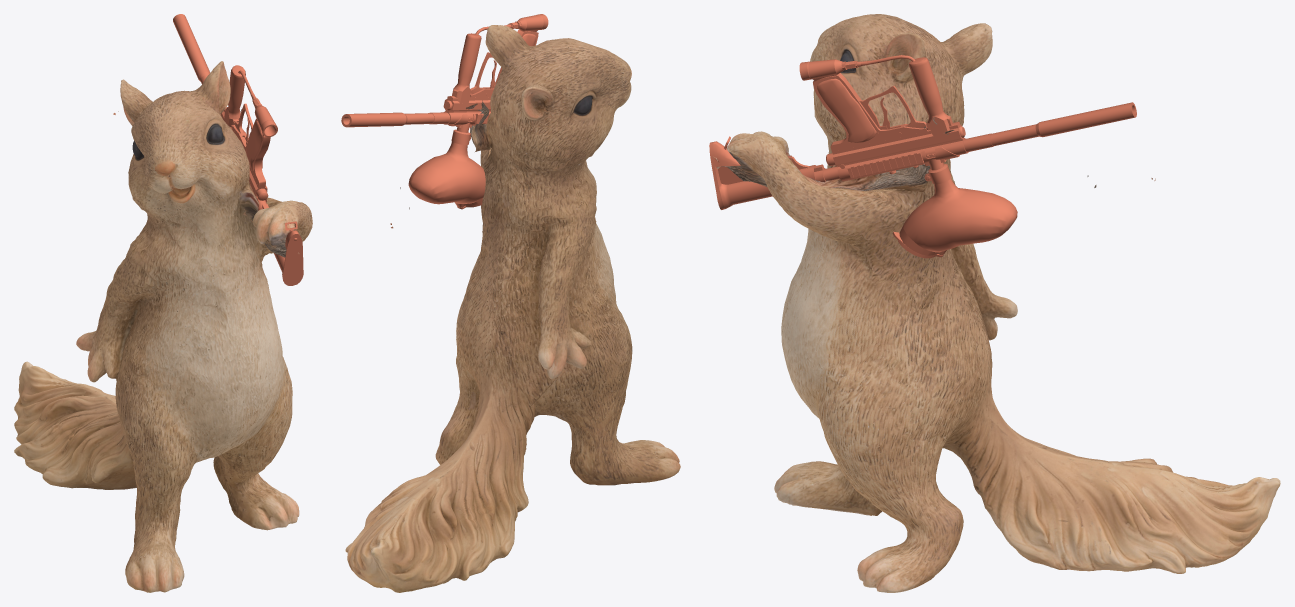
Rendered from sir_squirrell.glb.
3 renders of one model, left to right at view 1: azimuth 30°, elevation 25°; view 2: azimuth 150°, elevation 25°; view 3: azimuth 270°, elevation 25°, orthographic. The views are drawn at different scales.
Parts seen in each view (by area): view 1: Object_2, LP_BG_02, LP_BG_04, LP_BG_05, LP_BG_03, LP_BG_01; view 2: Object_2, LP_BG_02, LP_BG_04, LP_BG_05, LP_BG_03, LP_BG_06; view 3: Object_2, LP_BG_02, LP_BG_04, LP_BG_05, LP_BG_01, LP_BG_03, LP_BG_06.
Part boxes in pixels (left/top/right/bottom): Object_2: left=14, top=61, right=312, bottom=592; LP_BG_02: left=173, top=14, right=303, bottom=285; LP_BG_04: left=221, top=65, right=268, bottom=202; LP_BG_05: left=232, top=103, right=270, bottom=186; LP_BG_03: left=254, top=105, right=297, bottom=240; LP_BG_01: left=245, top=121, right=262, bottom=170; Object_2: left=345, top=25, right=680, bottom=592; LP_BG_02: left=341, top=26, right=496, bottom=207; LP_BG_04: left=443, top=33, right=490, bottom=139; LP_BG_05: left=470, top=30, right=538, bottom=97; LP_BG_03: left=457, top=14, right=548, bottom=209; LP_BG_06: left=451, top=21, right=521, bottom=145; Object_2: left=713, top=14, right=1280, bottom=592; LP_BG_02: left=709, top=55, right=1136, bottom=255; LP_BG_04: left=826, top=57, right=968, bottom=181; LP_BG_05: left=813, top=73, right=927, bottom=151; LP_BG_01: left=817, top=78, right=876, bottom=142; LP_BG_03: left=724, top=59, right=943, bottom=258; LP_BG_06: left=840, top=61, right=951, bottom=184.
Size of the model in its own units: 1.44 by 3.08 by 3.04.
Materials: 2 (1 with a texture image).
